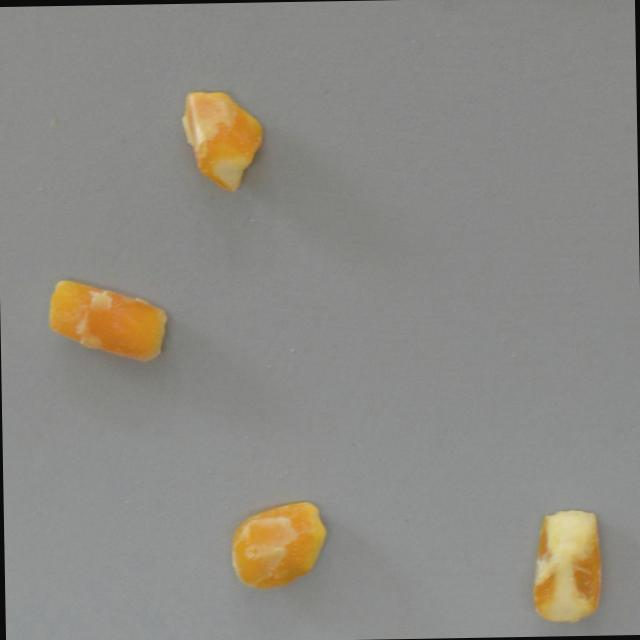pelicula: (43, 276, 170, 366), (167, 89, 267, 195), (227, 498, 329, 591), (530, 509, 603, 626)
